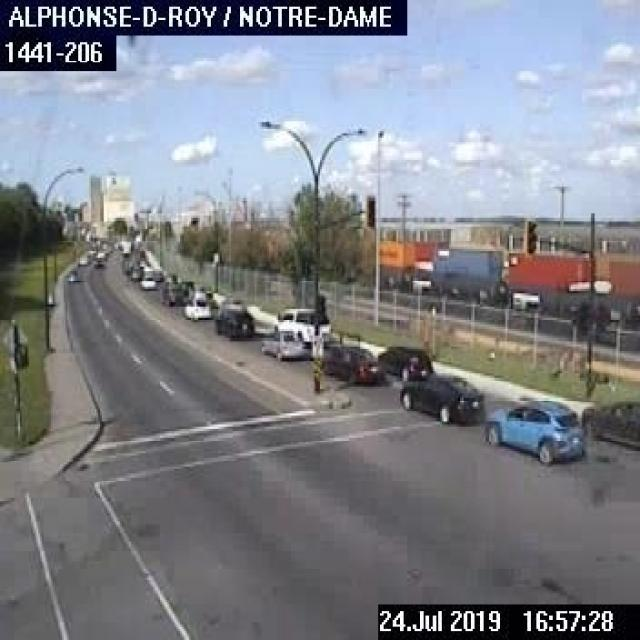vehicle: (483, 392, 589, 467), (397, 366, 487, 426), (579, 388, 638, 456), (319, 340, 385, 387), (377, 338, 435, 381), (273, 303, 332, 344), (258, 327, 308, 358), (211, 302, 256, 336), (180, 287, 217, 319), (160, 278, 189, 304), (138, 268, 158, 294)
